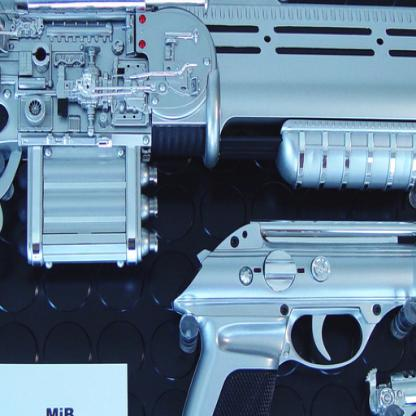gun: (0, 0, 415, 340), (173, 219, 415, 415)
